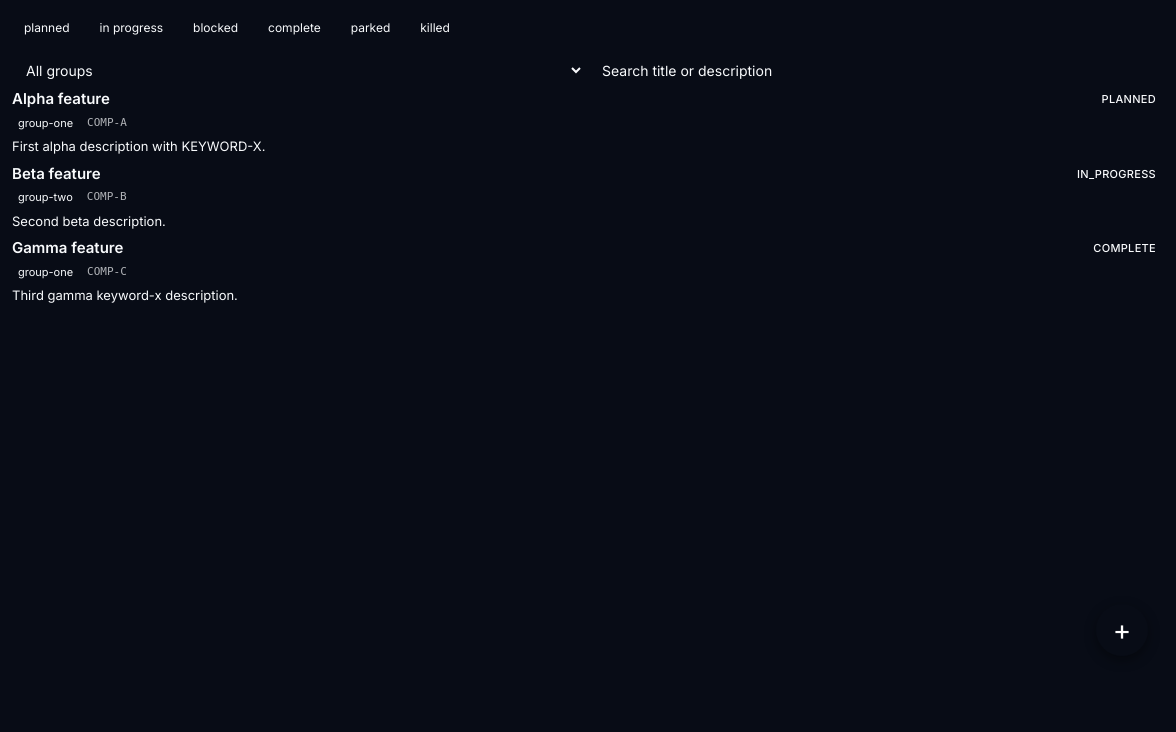
Test: <RoadmapTab> › filters by status
The image size is (1176, 732).
Expected: the list with test id "mobile-roadmap-list" is shown, [12,89,1164,305]
Click the button with test id "mobile-filter-status-in_progress".
click(131, 28)  # box [88,12,175,44]
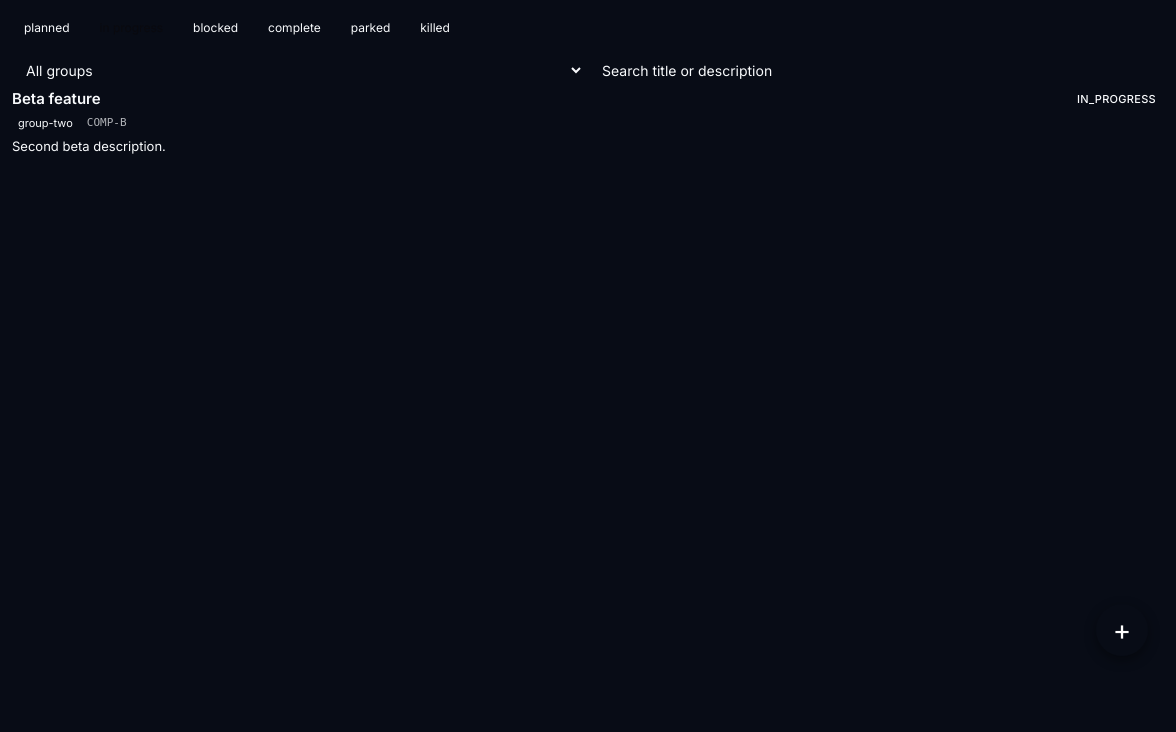
Expected: the button with test id "mobile-item-card-COMP-B" is shown, [12,89,1164,156]
Result: the button with test id "mobile-item-card-COMP-A" is gone
Result: the button with test id "mobile-item-card-COMP-C" is gone
